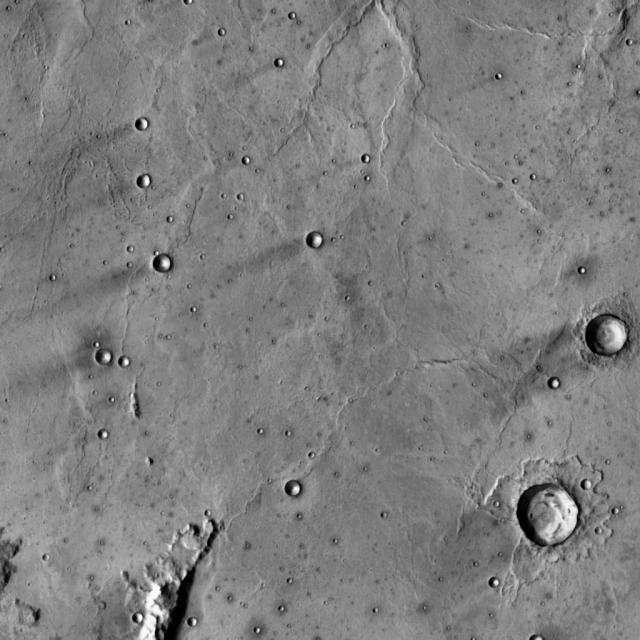crater: (520, 486, 582, 548), (589, 318, 631, 360), (156, 257, 173, 275), (288, 483, 304, 499), (309, 234, 325, 250), (100, 352, 116, 368), (140, 177, 154, 191), (138, 120, 151, 134), (551, 380, 564, 392), (136, 615, 146, 626), (122, 360, 132, 370), (102, 433, 112, 443), (585, 482, 595, 492), (492, 580, 502, 589), (186, 620, 195, 629), (280, 64, 288, 72), (245, 159, 253, 167), (365, 157, 373, 165), (186, 302, 194, 310), (581, 270, 589, 278), (615, 510, 623, 518), (622, 35, 630, 42), (284, 8, 292, 15), (188, 0, 196, 7), (591, 523, 598, 531), (221, 31, 228, 38), (491, 68, 498, 74), (91, 338, 97, 344), (234, 190, 240, 196), (40, 550, 46, 556)
